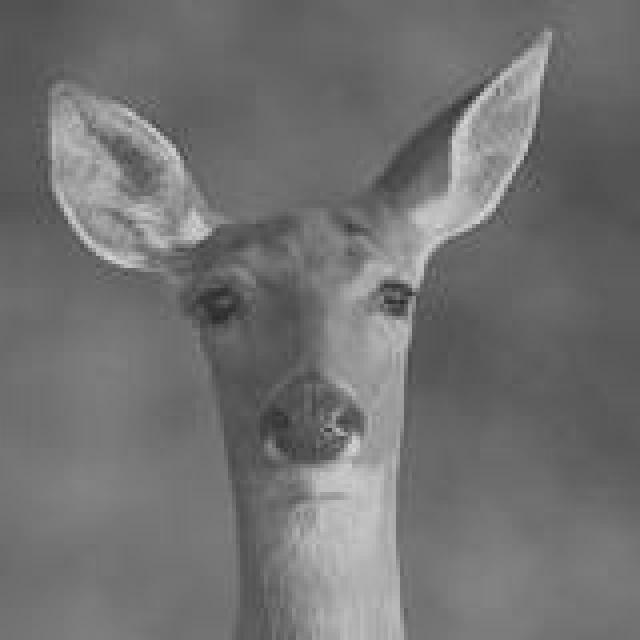Deer: (40, 36, 552, 640)
